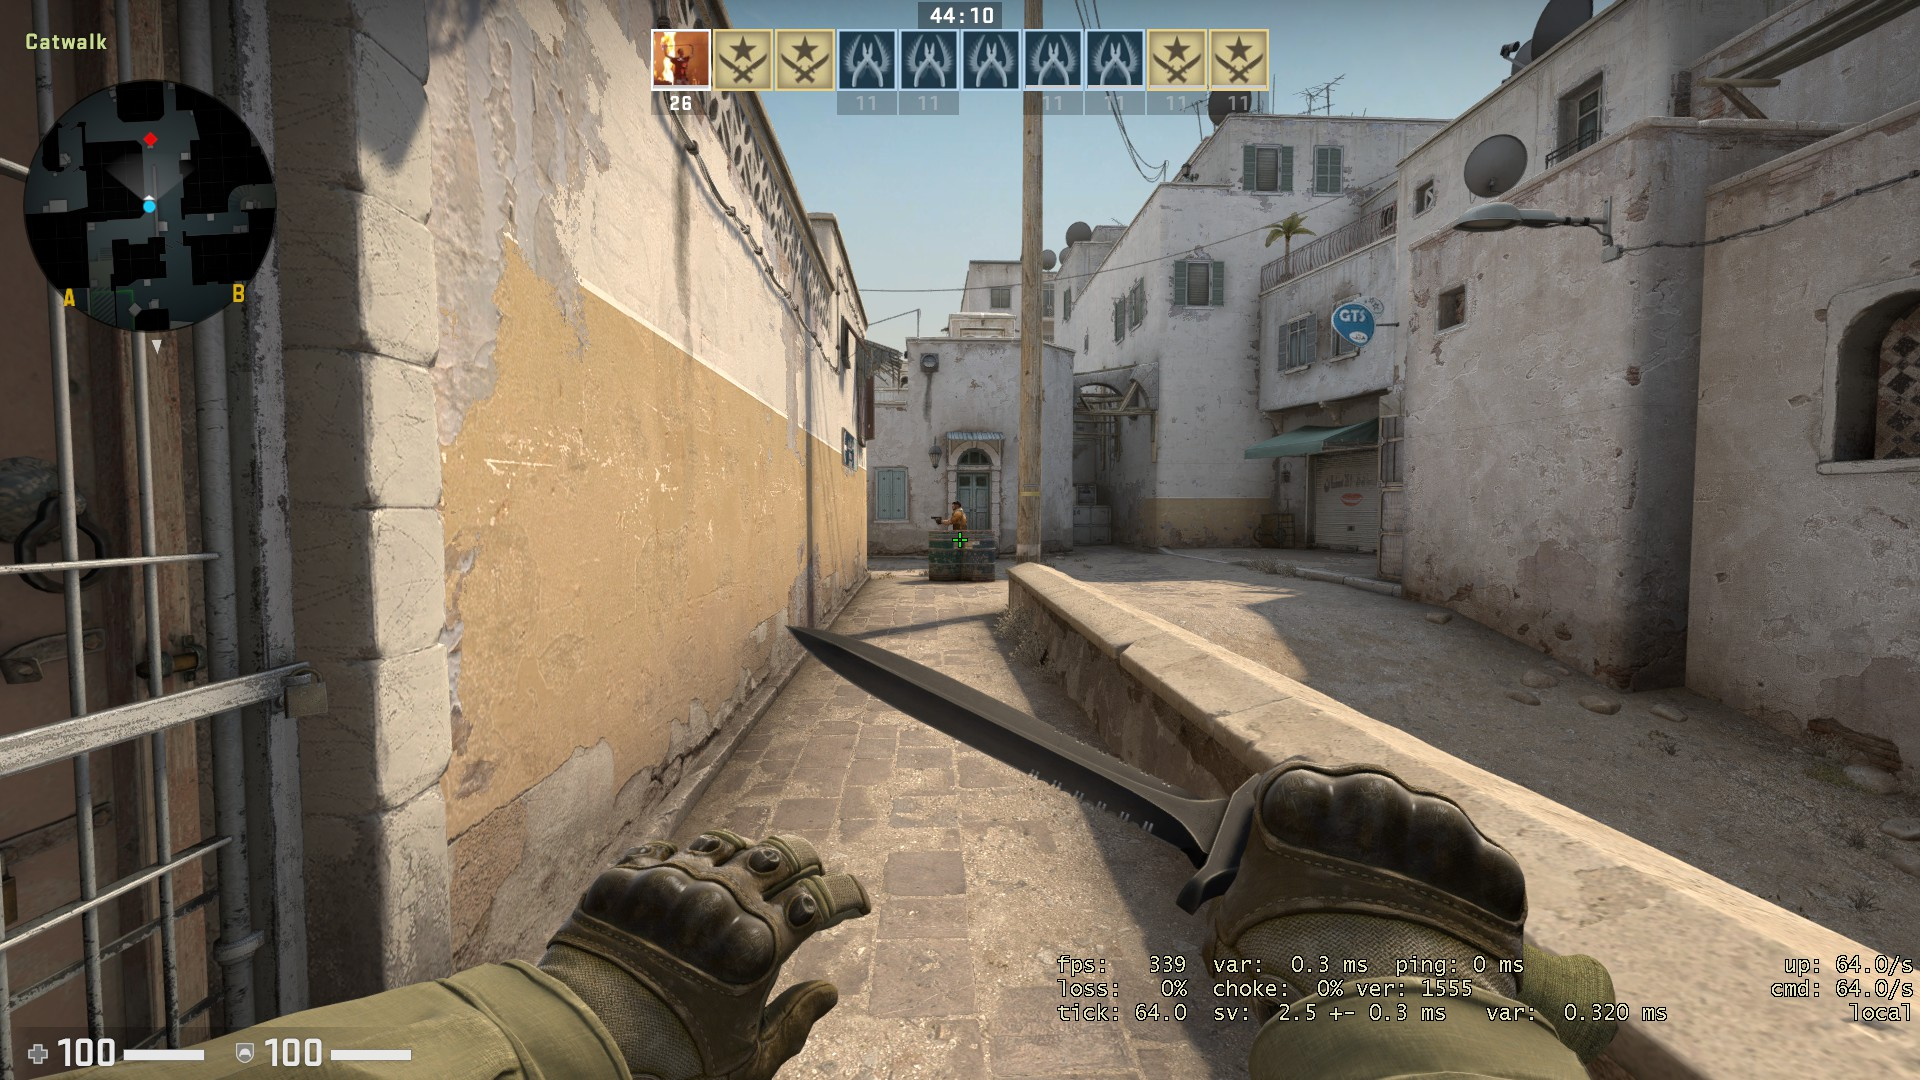player: (928, 498, 973, 531)
